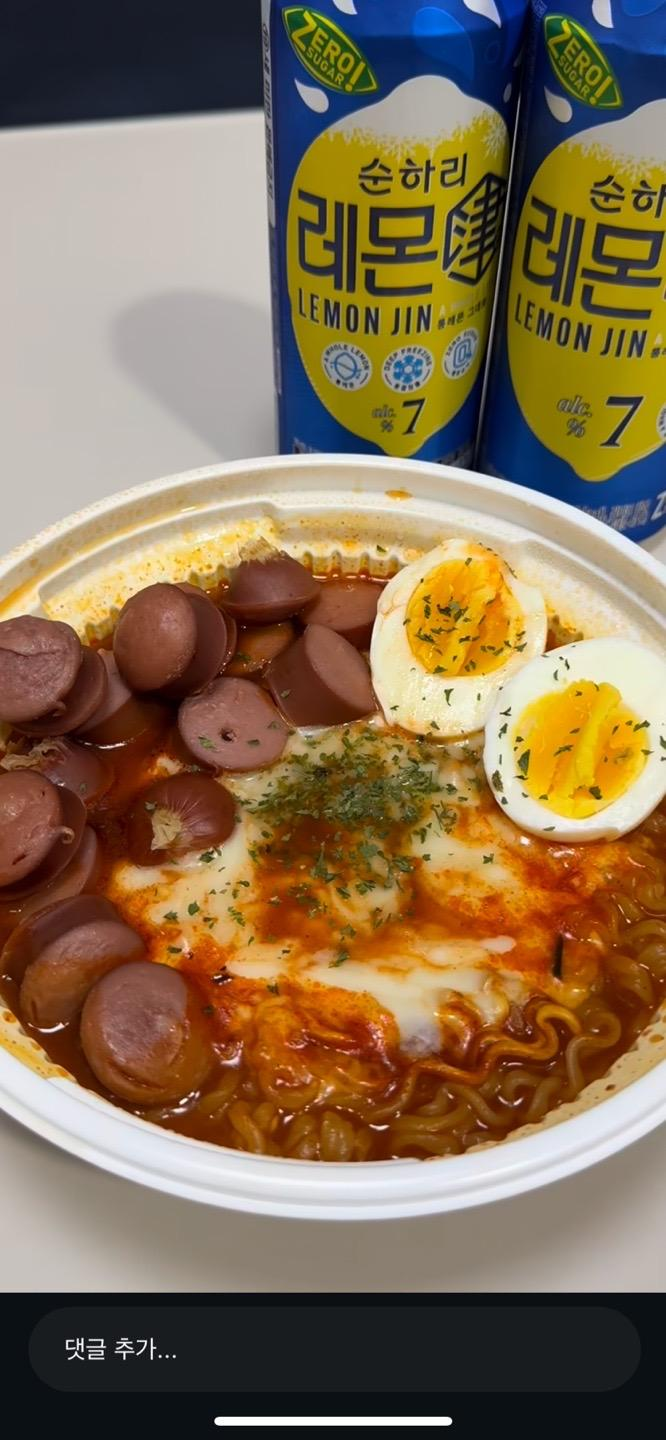Bottle: (263, 0, 526, 466), (477, 0, 665, 539)
Lunch Box: (0, 456, 665, 1219)
